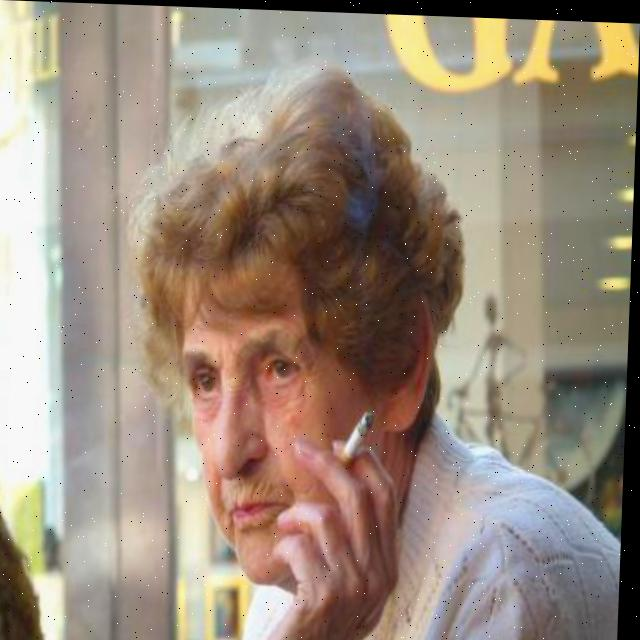cigarette: (344, 404, 381, 468)
